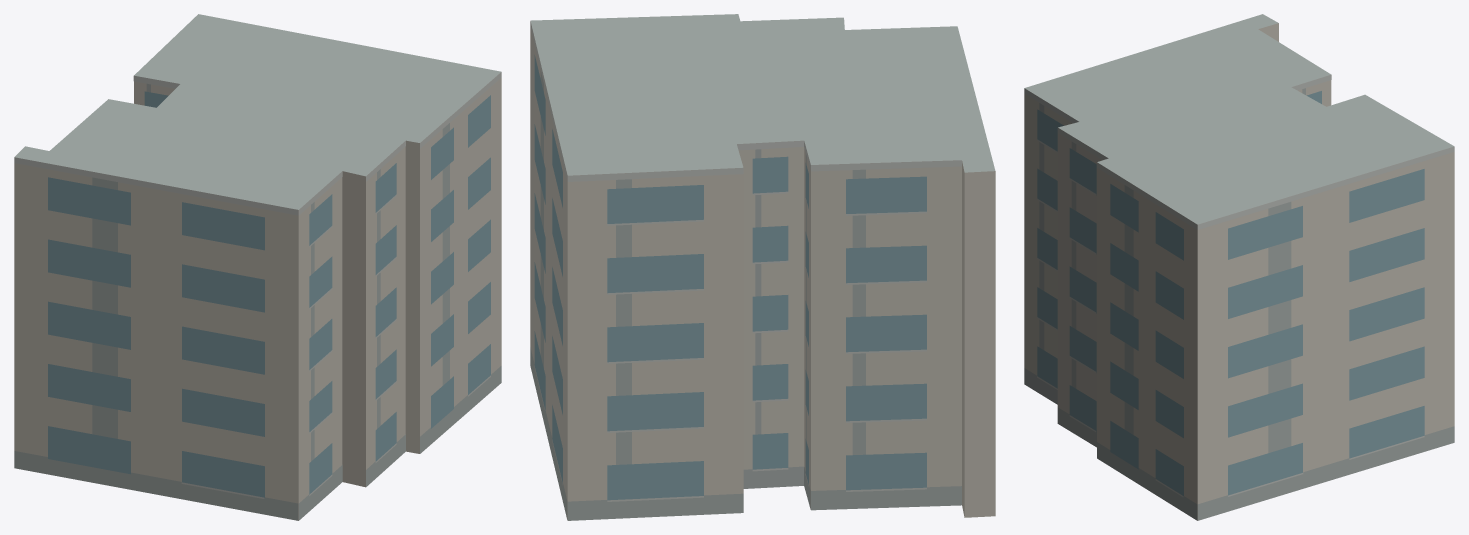
Rendered from survey-upis-33003387.glb.
3 views of the same model, side by side, from view 1: azimuth 30°, elevation 25°; view 2: azimuth 150°, elevation 25°; view 3: azimuth 270°, elevation 25° (orthographic). The views are drawn at different scales.
Visible parts, largest first — view 1: survey-upis-33003387.tmp; view 2: survey-upis-33003387.tmp; view 3: survey-upis-33003387.tmp.
Boxes of the visible parts, x1,y1,x2,y2 form: survey-upis-33003387.tmp: (14,14,501,520); survey-upis-33003387.tmp: (530,14,995,520); survey-upis-33003387.tmp: (1024,14,1454,520).
Size of the model in its own units: 20.14 by 13.2 by 17.38.
